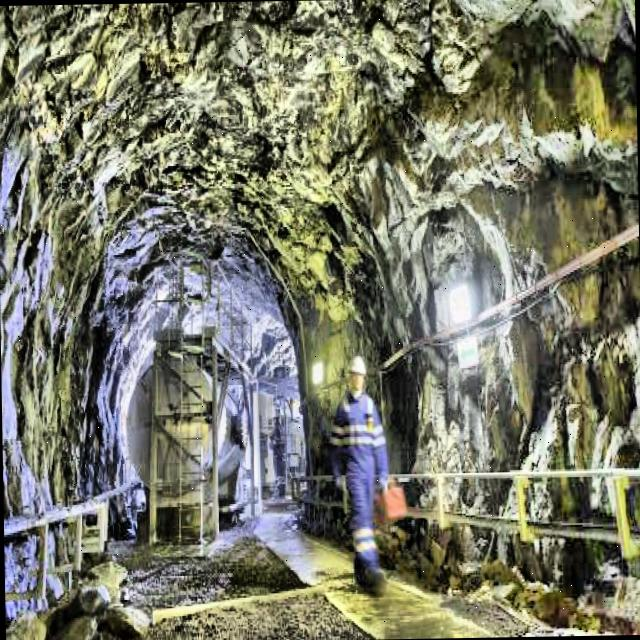helmet: (347, 354, 368, 398)
